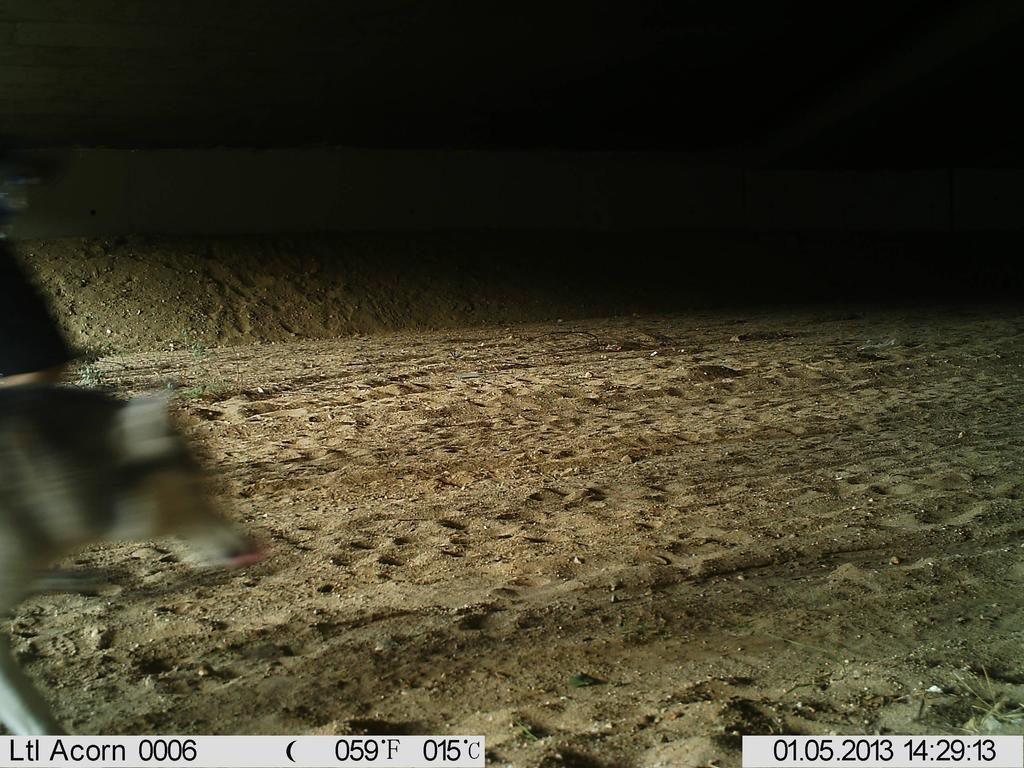dog: (1, 379, 271, 737)
